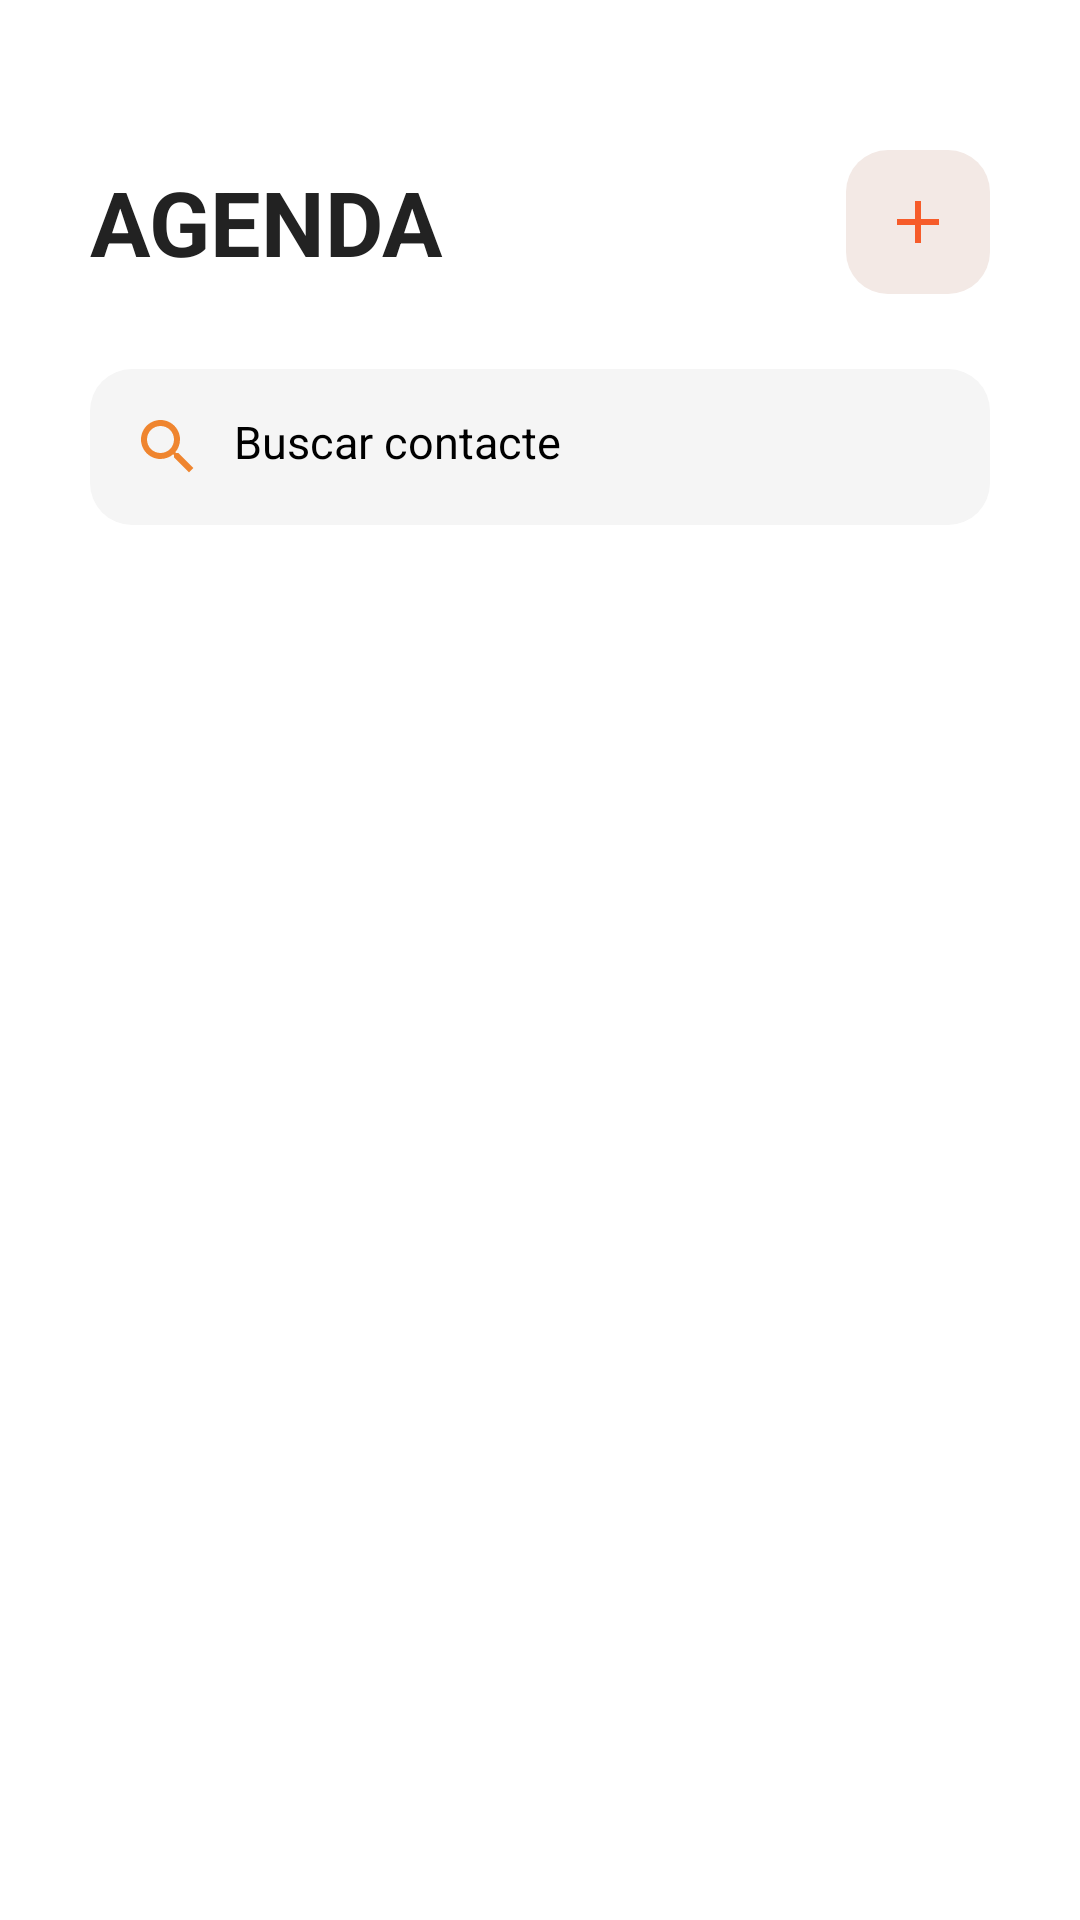

Icons on this 1080px×1920px Android screen, each with its box as (x1, y1, x2, y2):
Afegir contacte: (846, 150, 990, 294)
